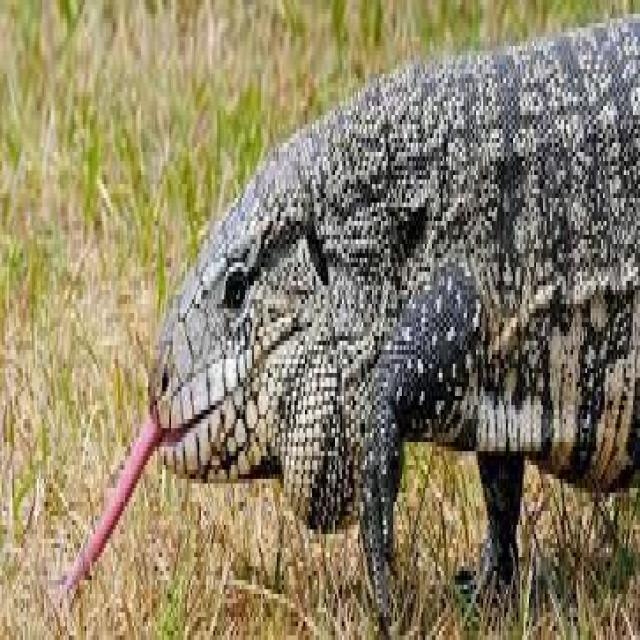Lizard: (90, 53, 640, 556)
